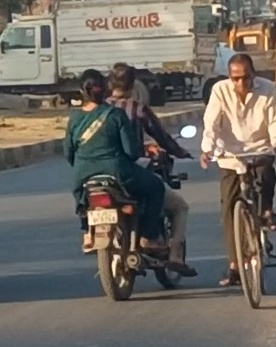BikeWithRider: (59, 50, 207, 309)
NoHelmet: (106, 60, 141, 99), (77, 64, 107, 105)
